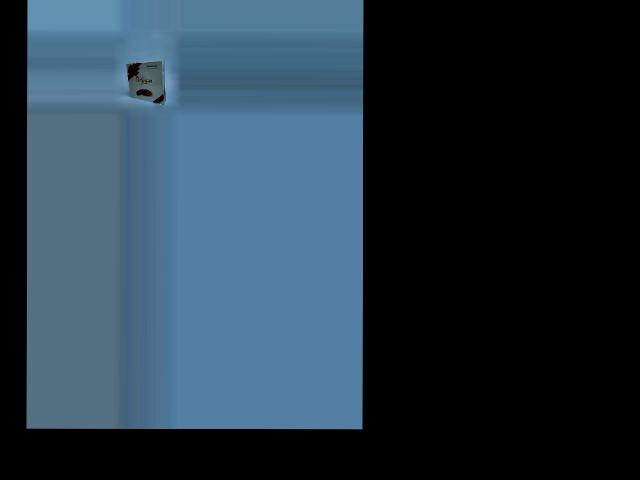chocolate: (125, 62, 173, 106)
